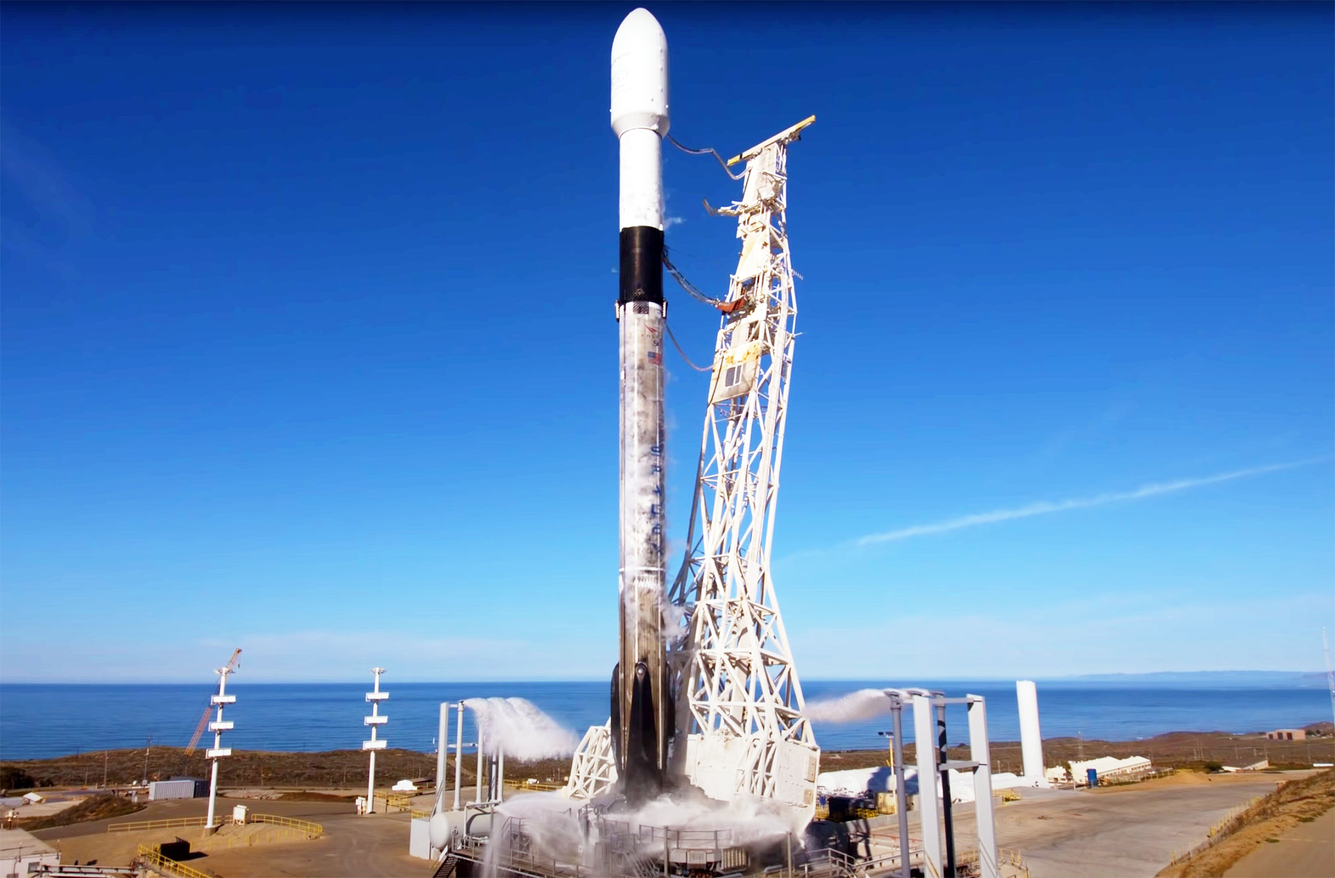falcon: (568, 1, 696, 785)
